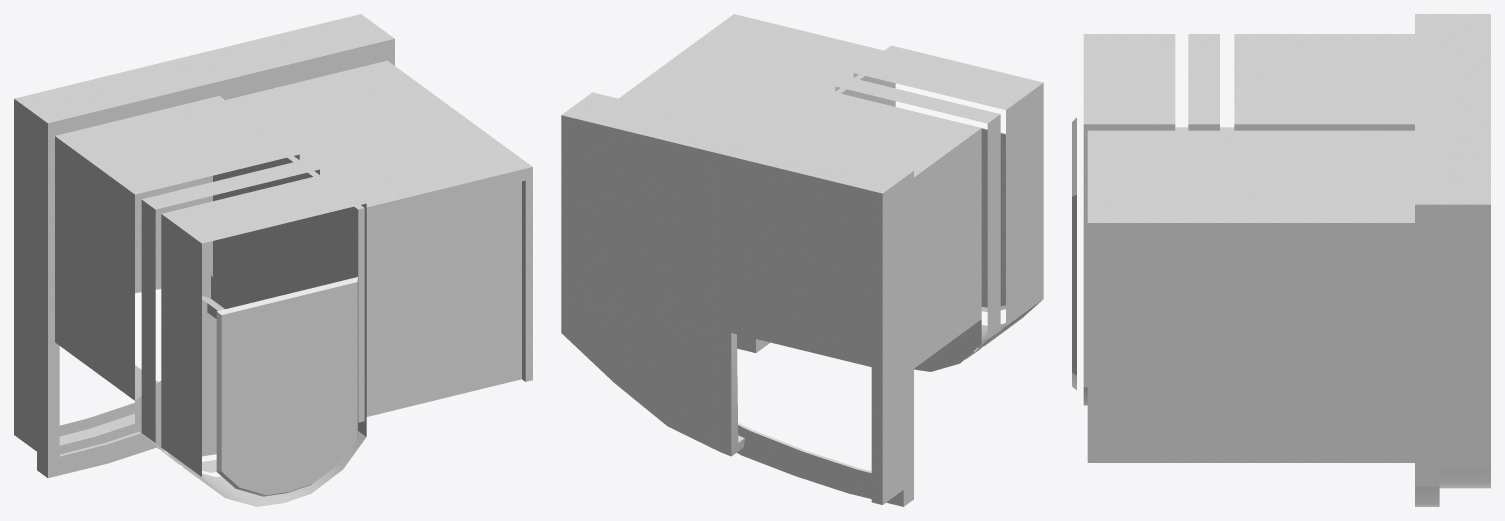
File: CoffeeMachine_26_CoffeeMachine_26_0_GeomSubset_0.obj
3 renders of one model, left to right at view 1: azimuth 30°, elevation 25°; view 2: azimuth 150°, elevation 25°; view 3: azimuth 270°, elevation 25°, orthographic. The views are drawn at different scales.
Parts seen in each view (by area): view 1: CoffeeMachine_26_CoffeeMachine_26_0_GeomSubset_0; view 2: CoffeeMachine_26_CoffeeMachine_26_0_GeomSubset_0; view 3: CoffeeMachine_26_CoffeeMachine_26_0_GeomSubset_0.
Boxes of the visible parts, x1=… form: CoffeeMachine_26_CoffeeMachine_26_0_GeomSubset_0: x1=14, y1=14, x2=532, y2=506; CoffeeMachine_26_CoffeeMachine_26_0_GeomSubset_0: x1=561, y1=14, x2=1043, y2=506; CoffeeMachine_26_CoffeeMachine_26_0_GeomSubset_0: x1=1072, y1=14, x2=1490, y2=506.
Bounding box in the file's own units: 0.4351 × 0.4253 × 0.4041.
